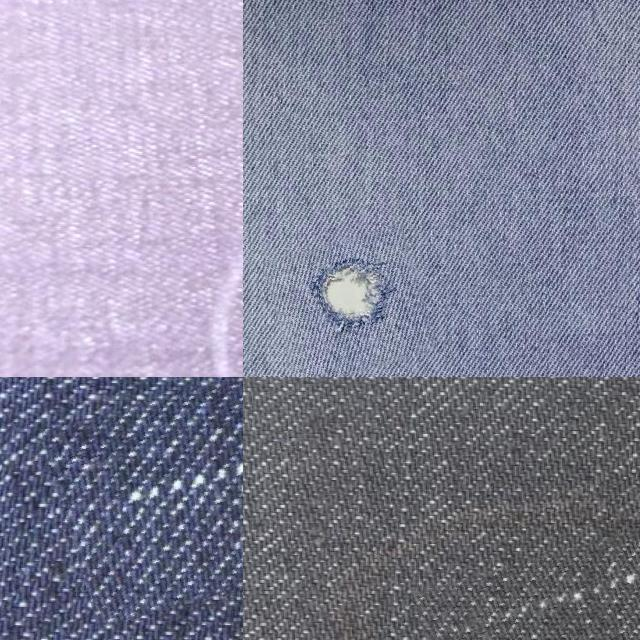other: (269, 230, 431, 377)
stains: (50, 377, 243, 592), (419, 510, 640, 640)
